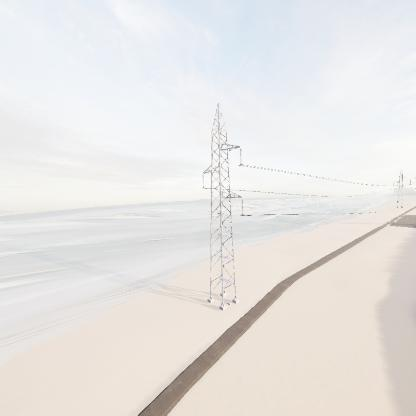tower: (196, 99, 248, 311)
